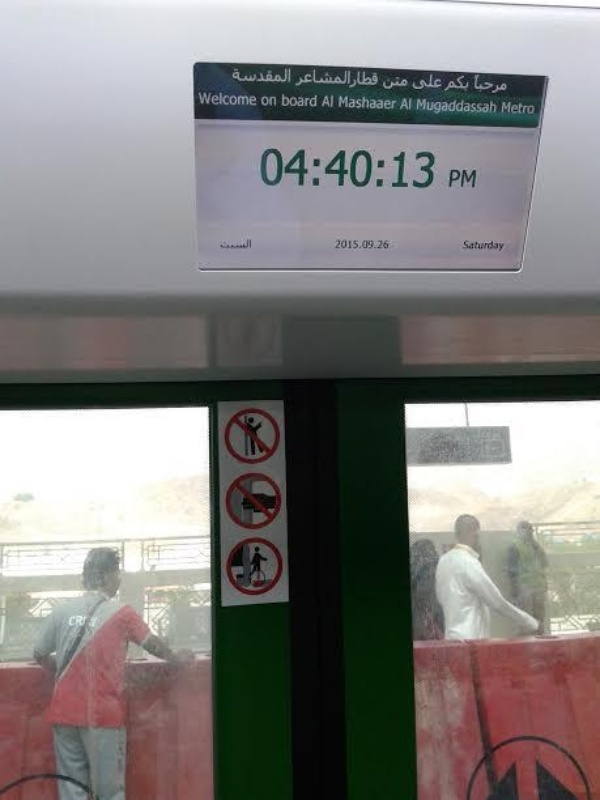text: (273, 148, 288, 190), (289, 148, 304, 190), (305, 148, 320, 190), (321, 148, 336, 190), (337, 148, 352, 190), (353, 148, 368, 190), (369, 148, 384, 190), (385, 148, 400, 190), (401, 148, 416, 190), (417, 148, 432, 190), (258, 148, 272, 190), (481, 74, 496, 96), (353, 71, 368, 91), (449, 169, 464, 189), (305, 68, 320, 87), (321, 68, 336, 87), (337, 68, 352, 87), (417, 97, 432, 116), (433, 97, 448, 116), (449, 97, 464, 116), (465, 97, 480, 116), (481, 97, 496, 116), (241, 66, 256, 84), (257, 66, 272, 84), (273, 66, 288, 84), (417, 74, 432, 92), (209, 88, 224, 106), (225, 88, 240, 106), (241, 88, 256, 106), (465, 169, 478, 189), (449, 76, 464, 93), (497, 74, 508, 96), (385, 76, 400, 92), (289, 93, 304, 108), (337, 95, 352, 110), (353, 95, 368, 110), (369, 95, 384, 110), (513, 101, 528, 116), (369, 71, 380, 91), (433, 74, 444, 92), (322, 95, 336, 109), (305, 93, 318, 108), (385, 95, 398, 110), (401, 97, 414, 112), (225, 238, 240, 251), (465, 240, 480, 253), (481, 240, 496, 253), (198, 88, 208, 106), (337, 238, 352, 250), (353, 238, 368, 250), (369, 238, 384, 250), (241, 238, 254, 251), (433, 148, 437, 190), (501, 101, 512, 116), (232, 66, 240, 84), (261, 95, 272, 108), (474, 74, 480, 96), (497, 240, 506, 253), (401, 76, 408, 92), (465, 76, 471, 93), (282, 93, 288, 108), (529, 101, 535, 116), (300, 68, 304, 87), (412, 74, 416, 92), (385, 238, 391, 250), (273, 95, 278, 108), (219, 238, 224, 251), (289, 66, 292, 84), (381, 76, 384, 92), (461, 240, 464, 253), (497, 97, 499, 116), (446, 76, 448, 93), (257, 88, 258, 106), (399, 97, 400, 112), (335, 238, 336, 250)
